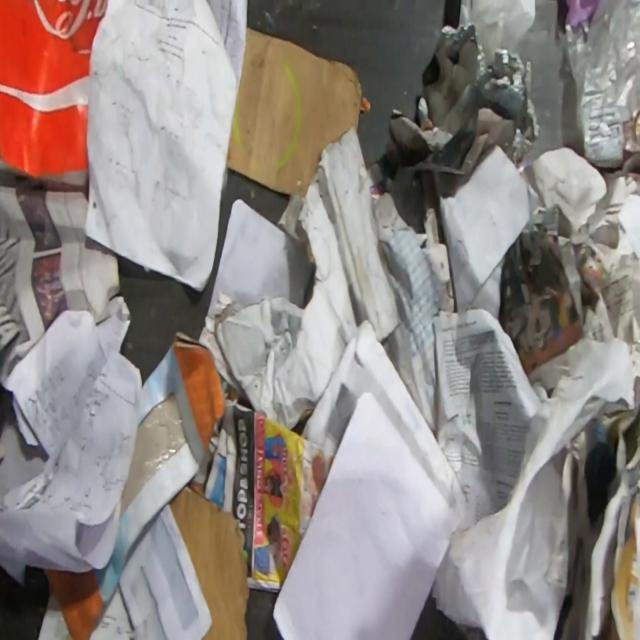cardboard: (203, 126, 402, 433), (41, 328, 226, 639), (383, 20, 542, 233), (225, 24, 364, 198), (0, 0, 108, 180), (168, 484, 251, 640), (415, 202, 458, 314)
soft_plastic: (555, 0, 640, 173), (458, 0, 538, 68)
